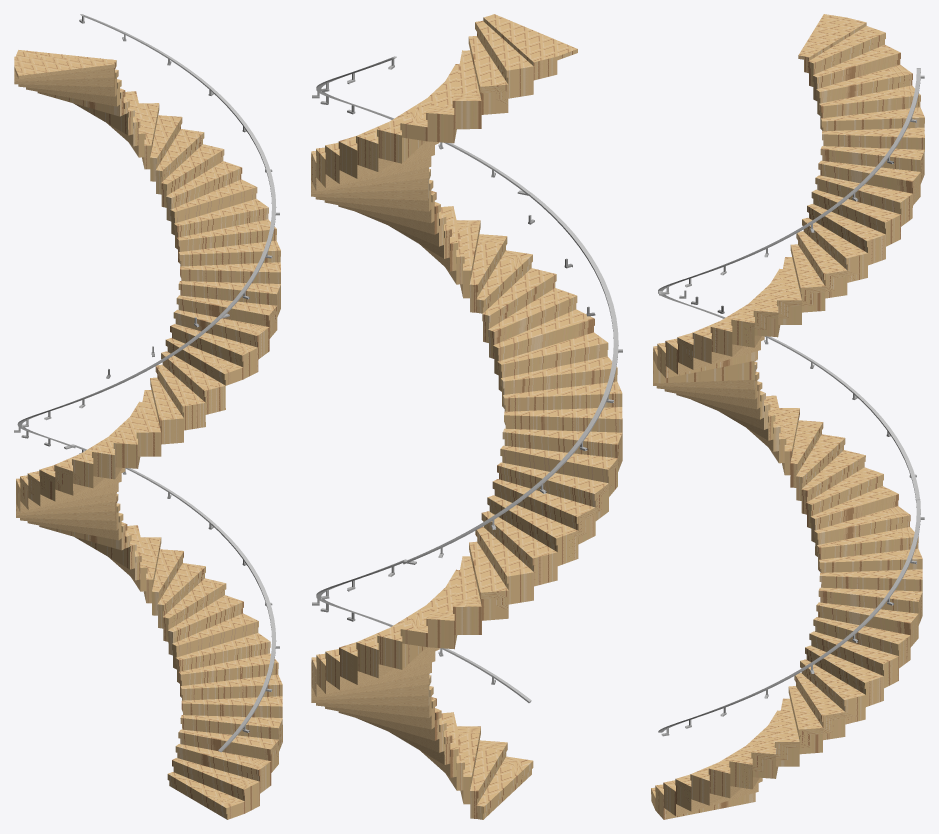
Rendered from Escaleras.obj.
3 renders of one model, left to right at view 1: azimuth 30°, elevation 25°; view 2: azimuth 150°, elevation 25°; view 3: azimuth 270°, elevation 25°, orthographic. The views are drawn at different scales.
Visible parts, largest first — view 1: polySurface708, polySurface651; view 2: polySurface708, polySurface651; view 3: polySurface708, polySurface651.
Boxes of the visible parts, box(x1,y1,x2,y2) form: polySurface708: box(14, 50, 282, 819); polySurface651: box(14, 14, 279, 752); polySurface708: box(311, 14, 622, 819); polySurface651: box(312, 56, 622, 702); polySurface708: box(651, 14, 924, 819); polySurface651: box(658, 68, 924, 736).
Size of the model in its own units: 0.5854 by 1.73 by 0.5909.
Materials: 2 (2 with a texture image).
